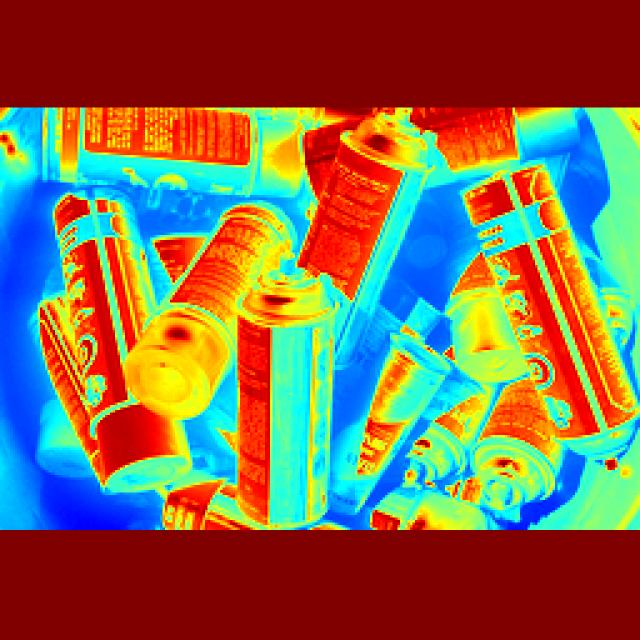Aerosol Cans: (444, 174, 628, 448), (130, 201, 294, 387), (246, 270, 342, 520)
